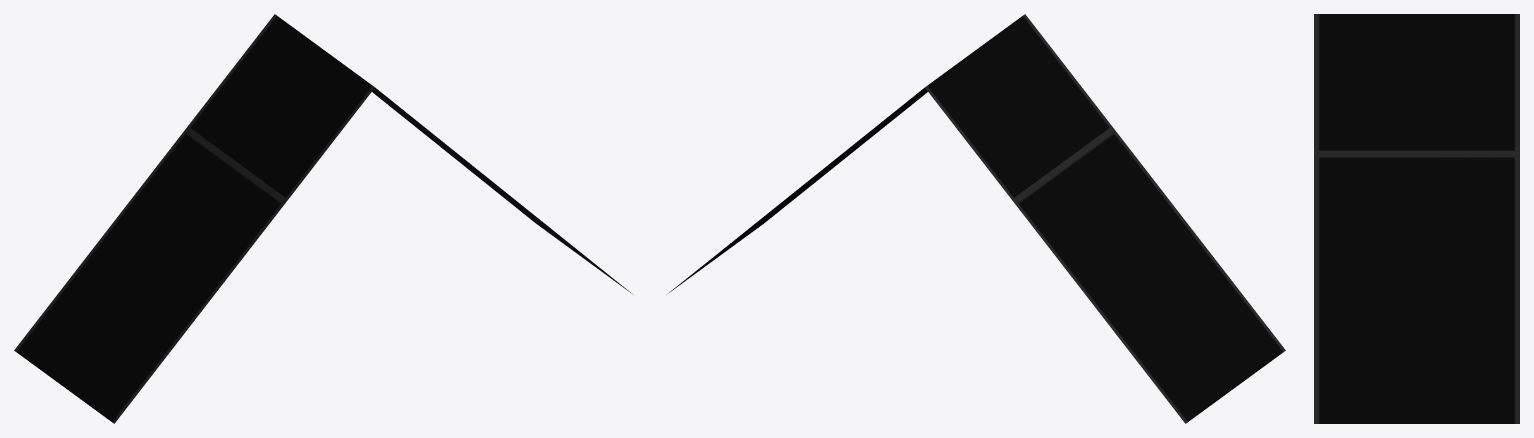
Rendered from dc_metro_roof_h1.obj.
The picture shows the model from 3 angles, left to right: view 1: azimuth 30°, elevation 25°; view 2: azimuth 150°, elevation 25°; view 3: azimuth 270°, elevation 25°; orthographic projection. The views are drawn at different scales.
Parts seen in each view (by area): view 1: part2, part1; view 2: part2, part1; view 3: part2, part1.
Boxes of the visible parts, left/top/right/bottom form: part2: left=14, top=91, right=631, bottom=423; part1: left=188, top=14, right=459, bottom=199; part2: left=668, top=91, right=1285, bottom=423; part1: left=840, top=14, right=1111, bottom=199; part2: left=1314, top=150, right=1519, bottom=423; part1: left=1314, top=14, right=1519, bottom=150.
Size of the model in its own units: 3 by 1.5 by 1.
1 material, 1 textured.
